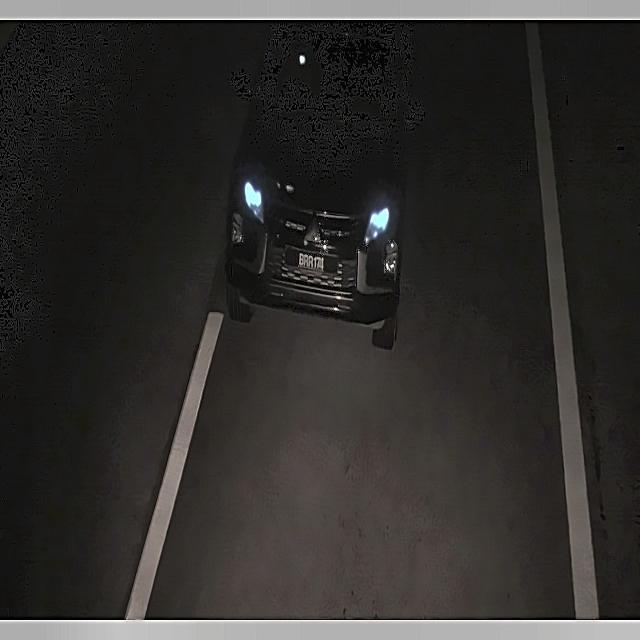car: (284, 244, 340, 281)
